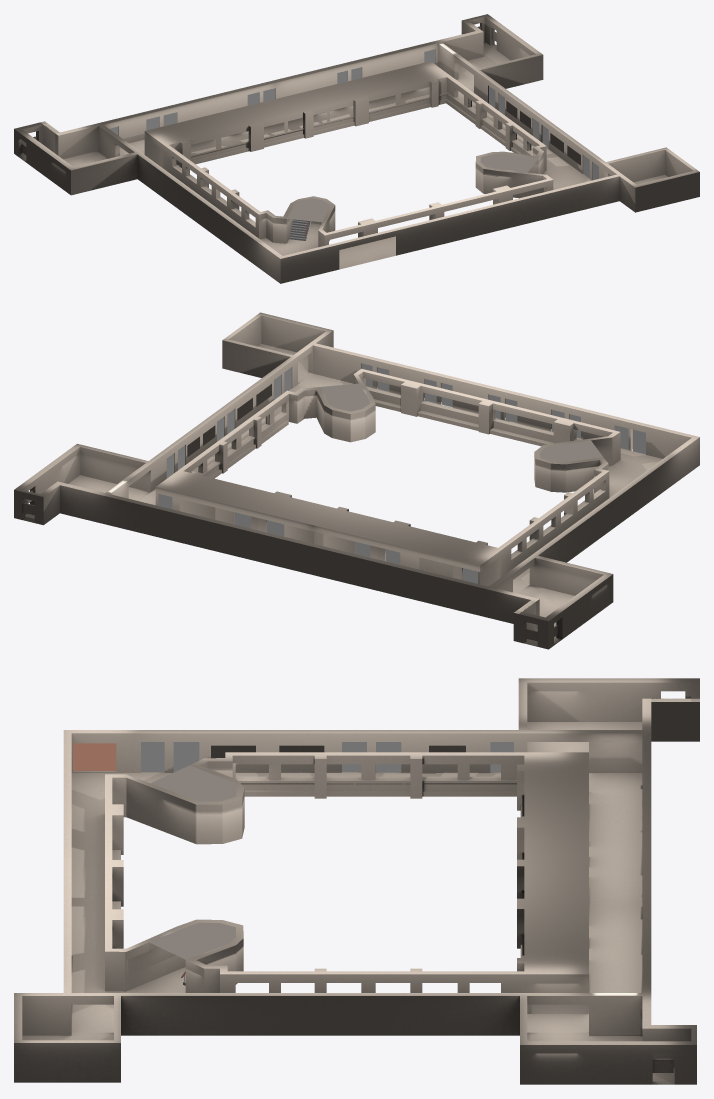
Rendered from 1107MoveCollision.glb.
3 views of the same model, one above another, from view 1: azimuth 30°, elevation 25°; view 2: azimuth 150°, elevation 25°; view 3: azimuth 270°, elevation 25° (orthographic). The views are drawn at different scales.
Visible parts, largest first — view 1: 8樓主體, 本體/灰門; view 2: 8樓主體, 本體/灰門; view 3: 8樓主體, 本體/灰門, 本體/粉紅門.
Part boxes in pixels (box(x1,y1,x2,y2)): 8樓主體: box(14, 14, 699, 283); 本體/灰門: box(109, 49, 598, 180); 8樓主體: box(14, 312, 699, 649); 本體/灰門: box(159, 363, 645, 583); 8樓主體: box(14, 678, 699, 1084); 本體/灰門: box(141, 742, 513, 772); 本體/粉紅門: box(73, 743, 116, 770).
Bounding box in the file's own units: 88.62 × 4.46 × 70.03.
Materials: 7 (3 with a texture image).
